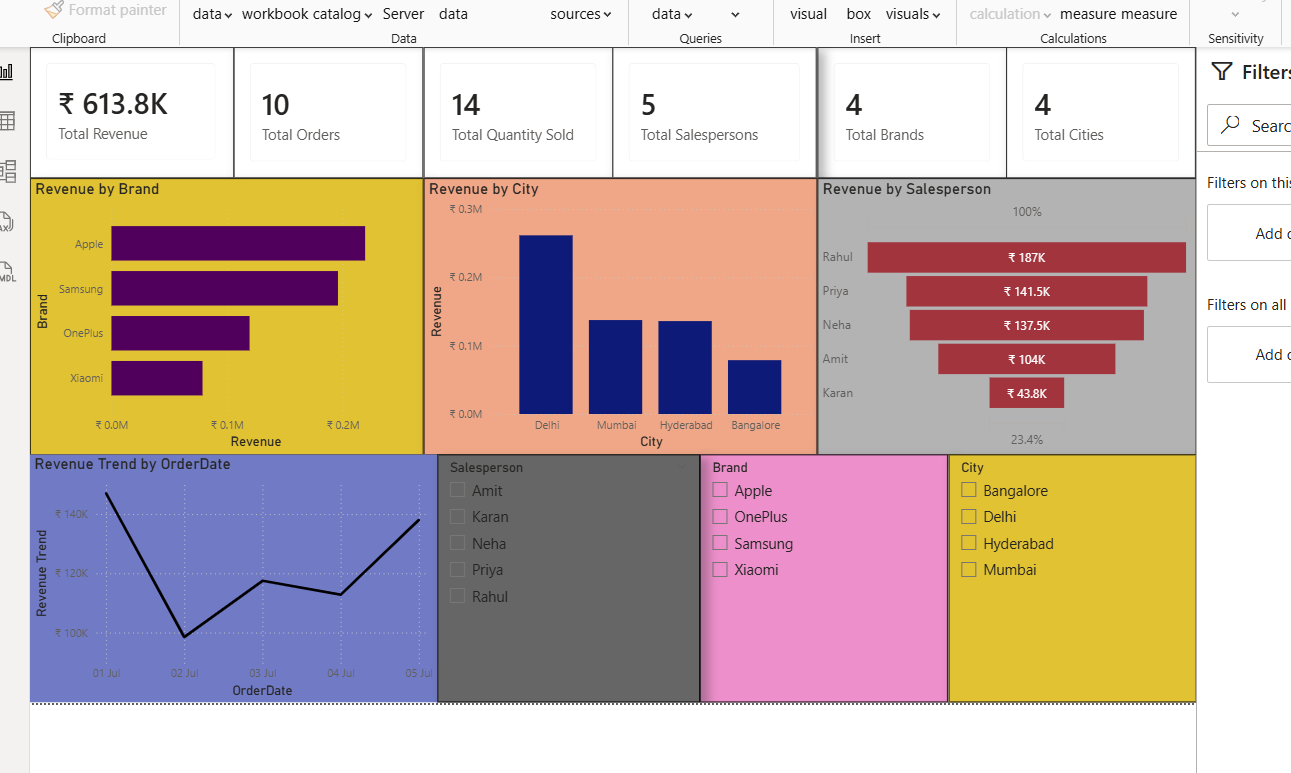

What the dashboard file says about the page in this screenshot:
{"tool":"powerbi","page":{"name":"Page 1","canvas":[1280,720],"ordinal":0},"visuals":[{"type":"cardVisual","fields":{"Data":["Sum(Raw_Dataset.Revenue)"]},"box":[0,0,224,144],"z":0},{"type":"cardVisual","fields":{"Data":["CountNonNull(Raw_Dataset.OrderDate)"]},"box":[224,0,208,144],"z":1000},{"type":"cardVisual","fields":{"Data":["Sum(Raw_Dataset.Quantity)"]},"box":[432,0,208,144],"z":2000},{"type":"cardVisual","fields":{"Data":["Count(Raw_Dataset.Brand)"]},"box":[864,0,208,144],"z":3000},{"type":"cardVisual","fields":{"Data":["Count(Raw_Dataset.Salesperson)"]},"box":[640,0,224,144],"z":4000},{"type":"cardVisual","fields":{"Data":["Count(Raw_Dataset.City)"]},"box":[1072,0,208,144],"z":5000},{"type":"barChart","fields":{"Category":["Raw_Dataset.Brand"],"Y":["Sum(Raw_Dataset.Revenue)"]},"box":[0,144,432,304],"z":6000},{"type":"columnChart","fields":{"Category":["Raw_Dataset.City"],"Y":["Sum(Raw_Dataset.Revenue)"]},"box":[432,144,432,304],"z":7000},{"type":"funnel","fields":{"Category":["Raw_Dataset.Salesperson"],"Y":["Sum(Raw_Dataset.Revenue)"]},"box":[864,144,416,304],"z":8000},{"type":"lineChart","fields":{"Category":["Raw_Dataset.OrderDate"],"Y":["Sum(Raw_Dataset.Revenue)"]},"box":[0,448,448,272],"z":8001},{"type":"slicer","fields":{"Values":["Raw_Dataset.Brand"]},"box":[736,448,272,272],"z":8002},{"type":"slicer","fields":{"Values":["Raw_Dataset.Salesperson"]},"box":[448,448,288,272],"z":8004},{"type":"slicer","fields":{"Values":["Raw_Dataset.City"]},"box":[1008,448,272,272],"z":8005}]}

Visuals, with their boxes on the page's 1280x720 design canvas (x1, y1, x2, y2). These are canvas units, not pixel positions in the 1291x773 screenshot, which may show the page scaled, cropped or inside an application window:
cardVisual - Sum(Raw_Dataset.Revenue): {"left": 0, "top": 0, "right": 224, "bottom": 144}
cardVisual - CountNonNull(Raw_Dataset.OrderDate): {"left": 224, "top": 0, "right": 432, "bottom": 144}
cardVisual - Sum(Raw_Dataset.Quantity): {"left": 432, "top": 0, "right": 640, "bottom": 144}
cardVisual - Count(Raw_Dataset.Brand): {"left": 864, "top": 0, "right": 1072, "bottom": 144}
cardVisual - Count(Raw_Dataset.Salesperson): {"left": 640, "top": 0, "right": 864, "bottom": 144}
cardVisual - Count(Raw_Dataset.City): {"left": 1072, "top": 0, "right": 1280, "bottom": 144}
barChart - Raw_Dataset.Brand x Sum(Raw_Dataset.Revenue): {"left": 0, "top": 144, "right": 432, "bottom": 448}
columnChart - Raw_Dataset.City x Sum(Raw_Dataset.Revenue): {"left": 432, "top": 144, "right": 864, "bottom": 448}
funnel - Raw_Dataset.Salesperson x Sum(Raw_Dataset.Revenue): {"left": 864, "top": 144, "right": 1280, "bottom": 448}
lineChart - Raw_Dataset.OrderDate x Sum(Raw_Dataset.Revenue): {"left": 0, "top": 448, "right": 448, "bottom": 720}
slicer - Raw_Dataset.Brand: {"left": 736, "top": 448, "right": 1008, "bottom": 720}
slicer - Raw_Dataset.Salesperson: {"left": 448, "top": 448, "right": 736, "bottom": 720}
slicer - Raw_Dataset.City: {"left": 1008, "top": 448, "right": 1280, "bottom": 720}
